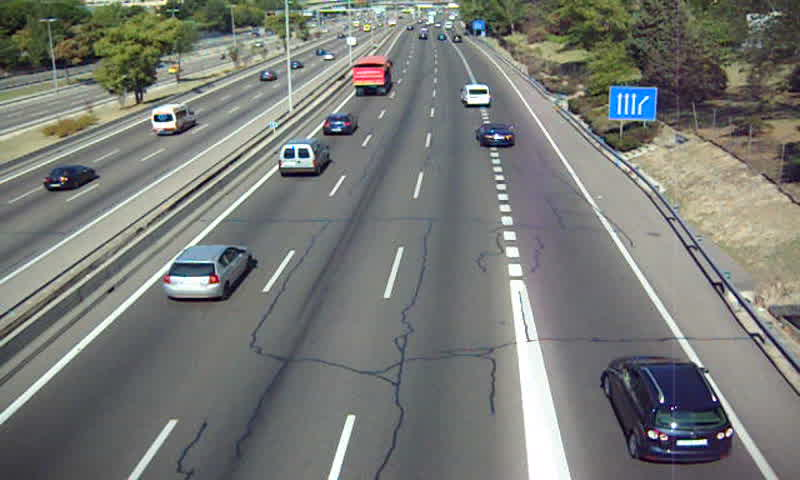car: (605, 356, 733, 460), (162, 246, 252, 301), (477, 123, 516, 148), (320, 113, 358, 136)
truck: (351, 57, 394, 96)
van: (278, 138, 328, 172), (460, 84, 492, 107)
